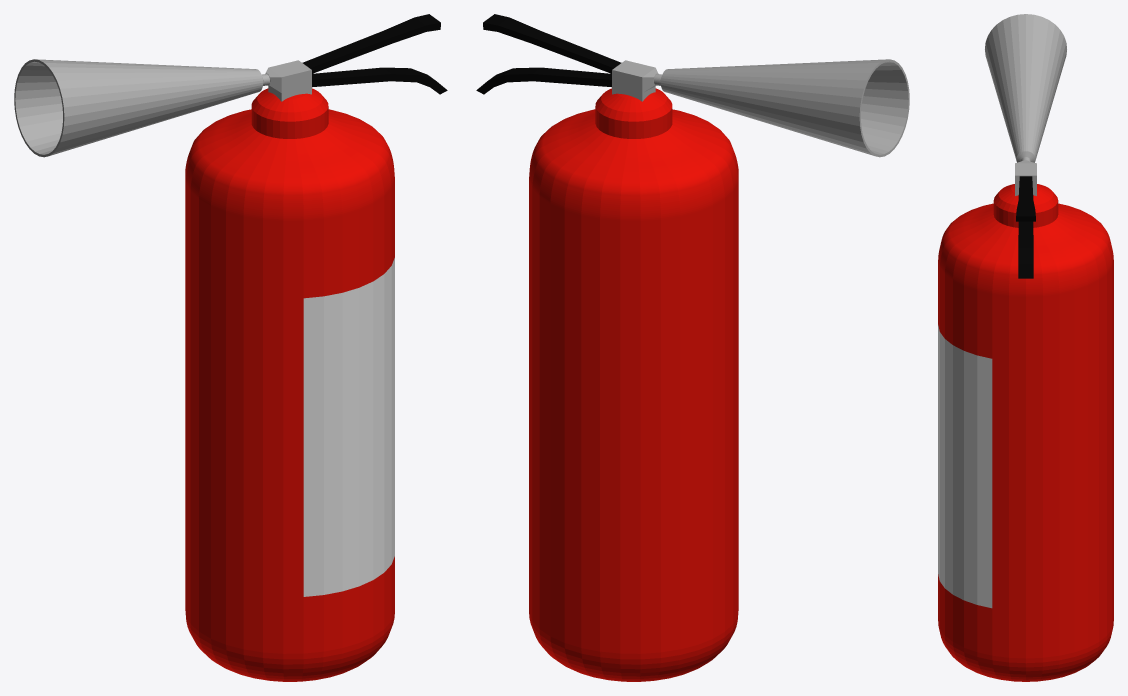
Rendered from Extinguisher.fbx.
3 views of the same model, side by side, from view 1: azimuth 30°, elevation 25°; view 2: azimuth 150°, elevation 25°; view 3: azimuth 270°, elevation 25° (orthographic). The views are drawn at different scales.
Parts seen in each view (by area): view 1: Cylinder, Cylinder.001, Cube.002, Cube.001, Cube; view 2: Cylinder, Cylinder.001, Cube.002, Cube.001, Cube; view 3: Cylinder, Cylinder.001, Cube.001, Cube.002, Cube.
Part boxes in pixels (<box>): Cylinder: <box>185,88,394,681</box>; Cylinder.001: <box>14,59,269,157</box>; Cube.002: <box>302,14,440,73</box>; Cube.001: <box>312,67,447,94</box>; Cube: <box>265,60,311,101</box>; Cylinder: <box>529,88,738,681</box>; Cylinder.001: <box>654,59,909,157</box>; Cube.002: <box>483,14,621,73</box>; Cube.001: <box>476,67,611,94</box>; Cube: <box>612,60,658,101</box>; Cylinder: <box>938,184,1113,681</box>; Cylinder.001: <box>985,14,1066,162</box>; Cube.001: <box>1018,221,1033,278</box>; Cube.002: <box>1016,176,1035,221</box>; Cube: <box>1015,160,1036,195</box>.
Size of the model in its own units: 99.46 by 151 by 44.31.
